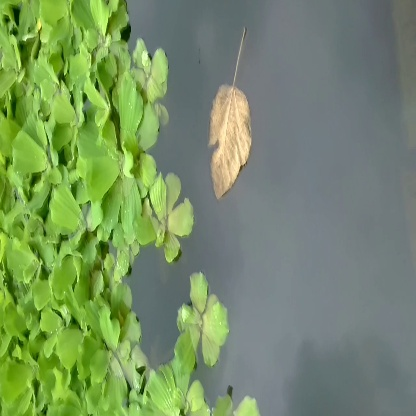leaf: (201, 27, 260, 200)
